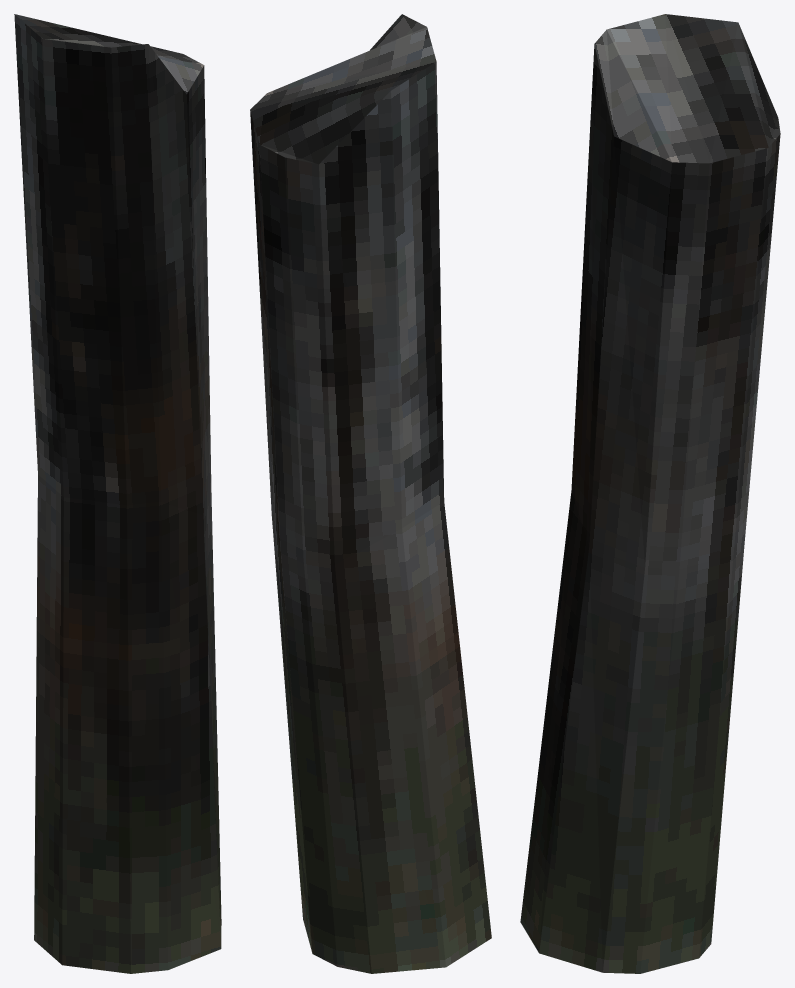
Rendered from big_fence_Leg_01.glb.
3 views of the same model, side by side, from view 1: azimuth 30°, elevation 25°; view 2: azimuth 150°, elevation 25°; view 3: azimuth 270°, elevation 25° (orthographic).
Visible parts, largest first — view 1: big_fence_Leg_01; view 2: big_fence_Leg_01; view 3: big_fence_Leg_01.
Boxes of the visible parts, x1=… form: big_fence_Leg_01: x1=14, y1=14, x2=221, y2=973; big_fence_Leg_01: x1=250, y1=14, x2=491, y2=973; big_fence_Leg_01: x1=520, y1=14, x2=780, y2=973.
Size of the model in its own units: 0.5715 by 2.71 by 0.7108.
1 material, 1 textured.
